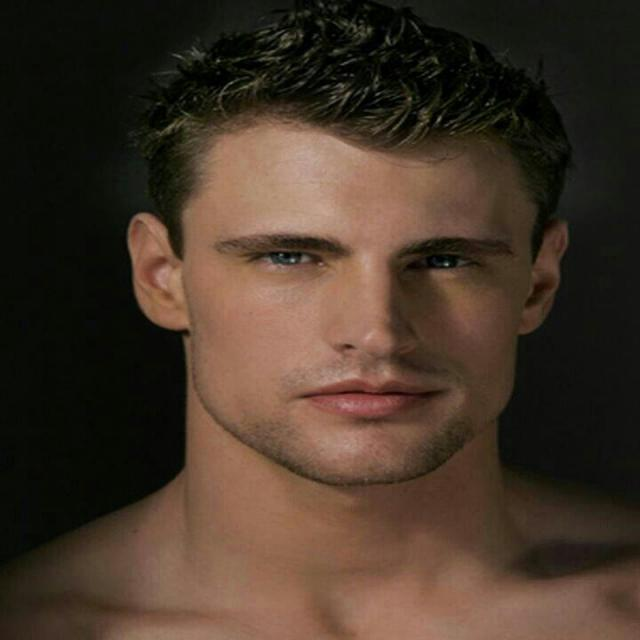earlobe: (158, 297, 190, 331), (516, 304, 546, 336)
eye: (408, 253, 472, 271), (252, 250, 323, 266)
nose: (332, 341, 418, 385)
wholeear: (127, 214, 190, 332), (516, 218, 572, 336)
